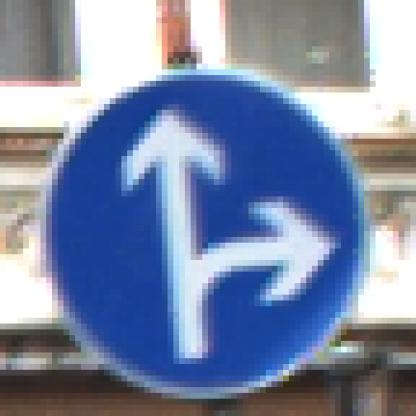Straight or Right: (42, 42, 377, 383)
